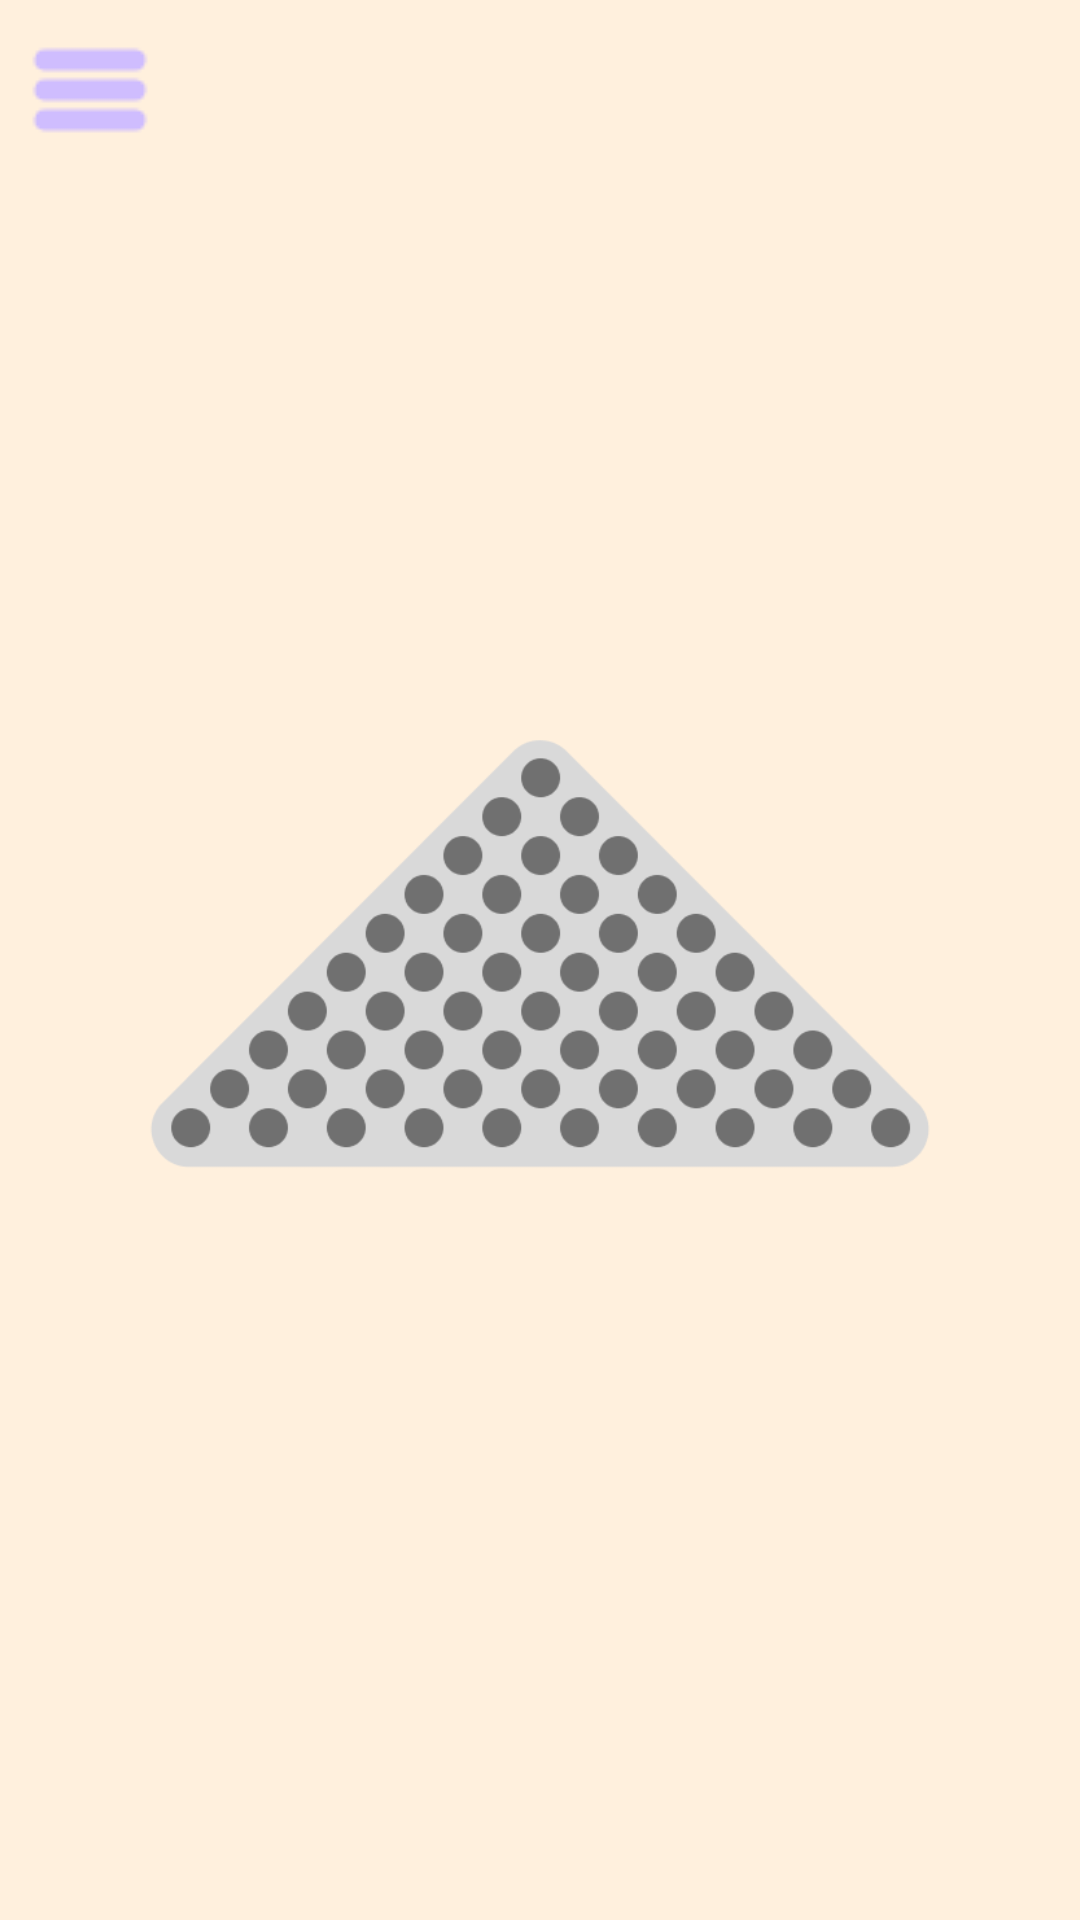

Icon click points for this 1080 x 1920 phone screenshot, format (x=x, y=y):
menu: (x=90, y=90)
